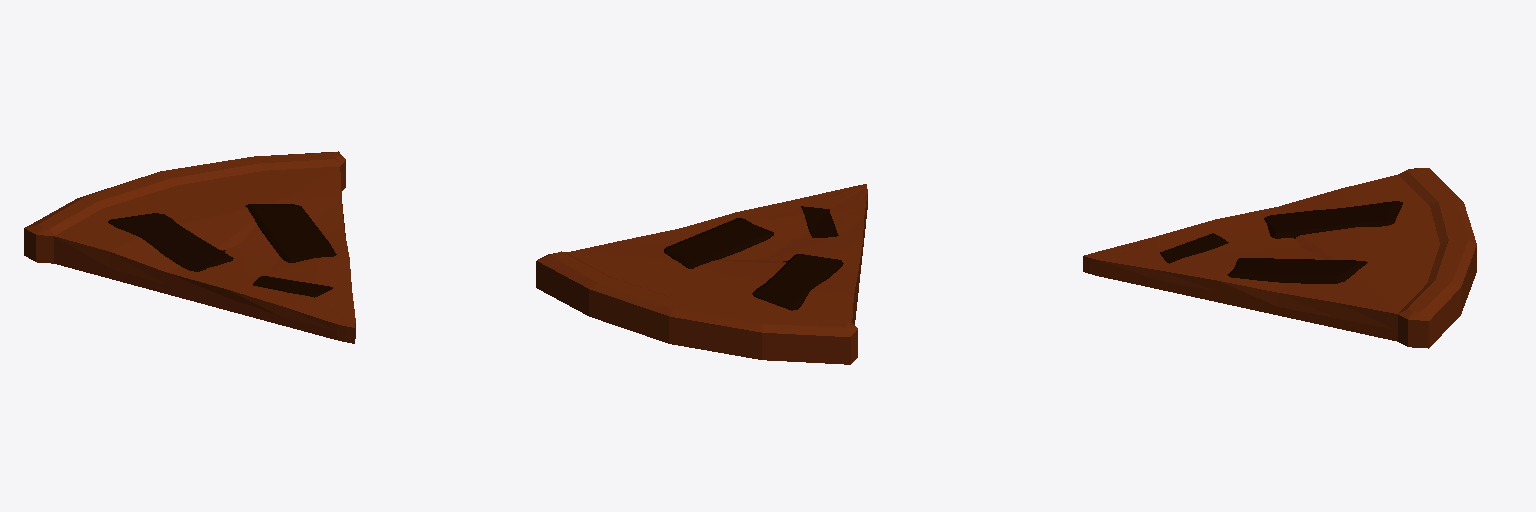
Rendered from BrownSlice.obj.
3 views of the same model, side by side, from view 1: azimuth 30°, elevation 25°; view 2: azimuth 150°, elevation 25°; view 3: azimuth 270°, elevation 25° (orthographic).
Visible parts, largest first — view 1: Pizza_Slice_Cube.003; view 2: Pizza_Slice_Cube.003; view 3: Pizza_Slice_Cube.003.
Boxes of the visible parts, <box> form: Pizza_Slice_Cube.003: <box>24,151,355,343</box>; Pizza_Slice_Cube.003: <box>536,184,867,364</box>; Pizza_Slice_Cube.003: <box>1083,168,1476,348</box>.
Size of the model in its own units: 1.07 by 0.1036 by 1.16.